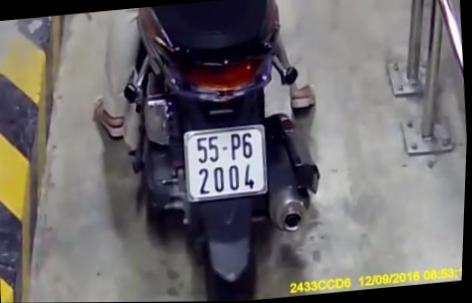LP: (183, 124, 273, 201)
